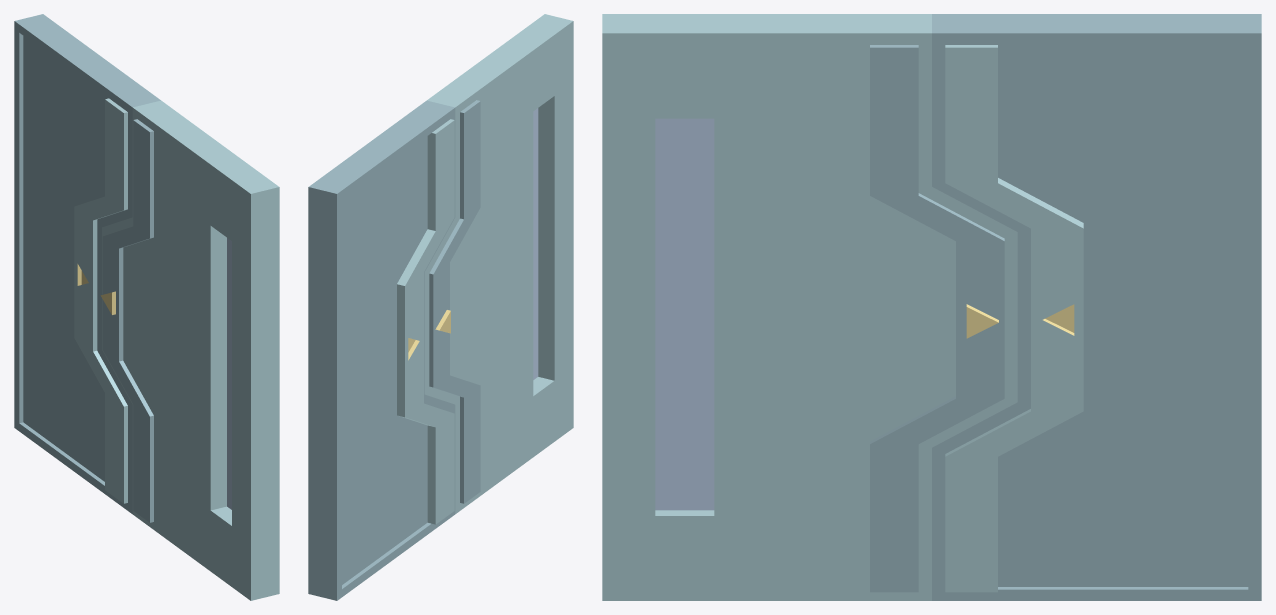
The model's file is door-01.fbx.
3 views of the same model, side by side, from view 1: azimuth 30°, elevation 25°; view 2: azimuth 150°, elevation 25°; view 3: azimuth 270°, elevation 25° (orthographic). The views are drawn at different scales.
Visible parts, largest first — view 1: door_01_a, door_01_b; view 2: door_01_b, door_01_a; view 3: door_01_a, door_01_b.
Boxes of the visible parts, left/top/right/bottom form: door_01_a: left=100, top=100, right=279, bottom=600; door_01_b: left=14, top=14, right=160, bottom=513; door_01_b: left=308, top=100, right=455, bottom=600; door_01_a: left=424, top=14, right=573, bottom=513; door_01_a: left=602, top=14, right=1017, bottom=600; door_01_b: left=932, top=14, right=1261, bottom=600.
Bounding box in the file's own units: 11 × 95 × 100.
